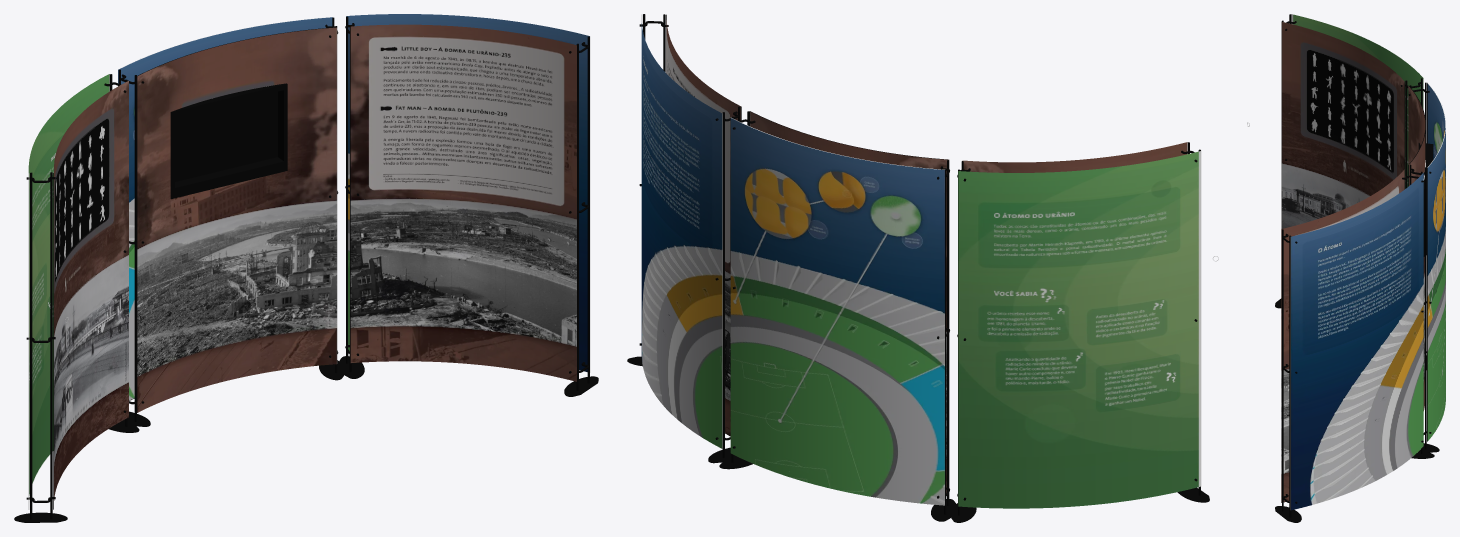
Rendered from hiroshima.glb.
3 views of the same model, side by side, from view 1: azimuth 30°, elevation 25°; view 2: azimuth 150°, elevation 25°; view 3: azimuth 270°, elevation 25° (orthographic). The views are drawn at different scales.
Size of the model in its own units: 4.38 by 2.49 by 1.59.
Materials: 6 (3 with a texture image).
